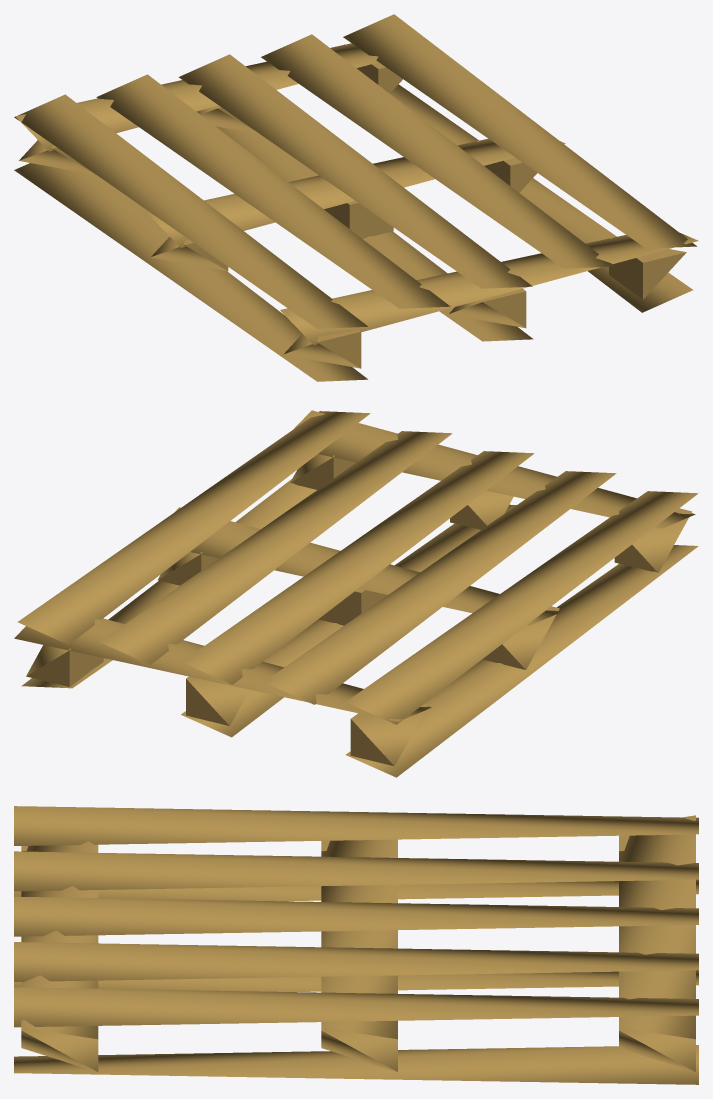
Rendered from cc0-pallet-lod1.glb.
3 views of the same model, one above another, from view 1: azimuth 30°, elevation 25°; view 2: azimuth 150°, elevation 25°; view 3: azimuth 270°, elevation 25° (orthographic). The views are drawn at different scales.
Visible parts, largest first — view 1: part_0; view 2: part_0; view 3: part_0.
Part boxes in pixels (<box>): part_0: <box>14,14,698,381</box>; part_0: <box>14,410,698,777</box>; part_0: <box>14,806,698,1084</box>.
Size of the model in its own units: 0.8925 by 0.14 by 1.22.
1 material, 1 textured.
